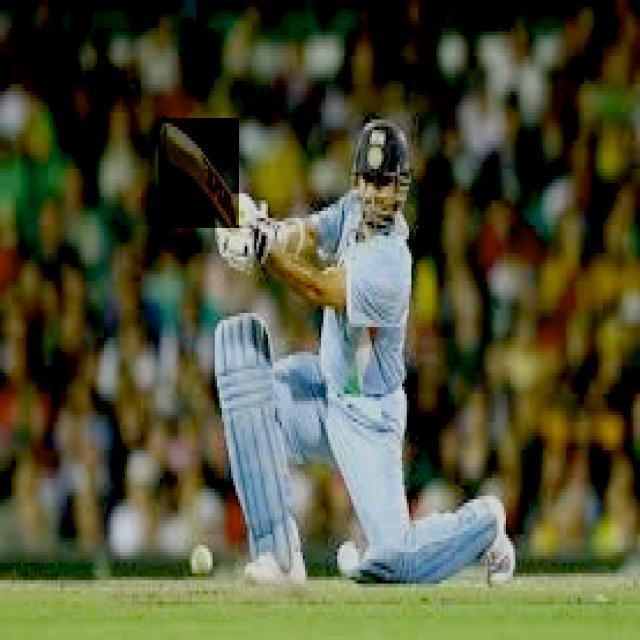bat: (155, 113, 237, 226)
toe: (156, 114, 174, 159)
